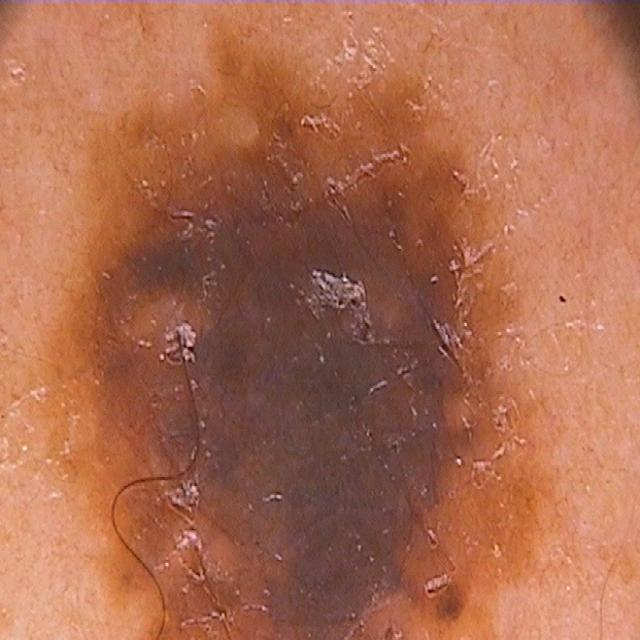Melanoma: (77, 37, 489, 640)
